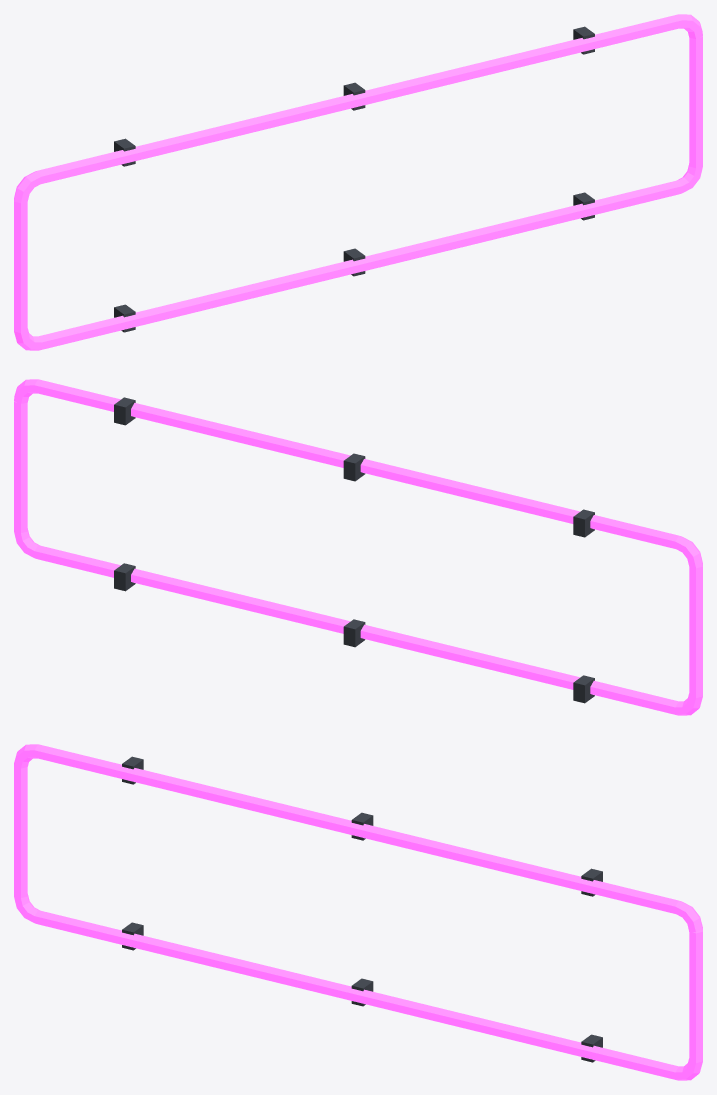
Rendered from neon-frame.glb.
3 views of the same model, one above another, from view 1: azimuth 30°, elevation 25°; view 2: azimuth 150°, elevation 25°; view 3: azimuth 330°, elevation 25° (orthographic).
Visible parts, largest first — view 1: neon-frame; view 2: neon-frame; view 3: neon-frame.
Boxes of the visible parts, box(x1,y1,x2,y2) form: neon-frame: box(14, 14, 702, 350); neon-frame: box(14, 379, 702, 715); neon-frame: box(14, 744, 702, 1080).
Bounding box in the file's own units: 1.2 × 0.306 × 0.0374.
